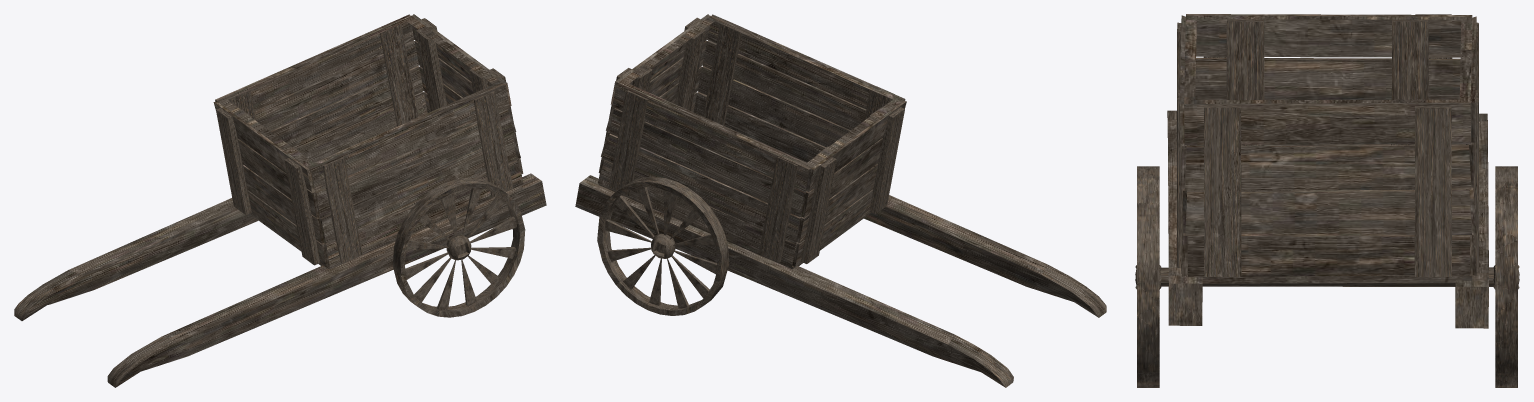
Rendered from cart_4.glb.
The picture shows the model from 3 angles, left to right: view 1: azimuth 30°, elevation 25°; view 2: azimuth 150°, elevation 25°; view 3: azimuth 270°, elevation 25°; orthographic projection. The views are drawn at different scales.
Visible parts, largest first — view 1: Wagon; view 2: Wagon; view 3: Wagon.
Part boxes in pixels (bbox=[...]): Wagon: bbox=[14, 14, 546, 387]; Wagon: bbox=[575, 14, 1106, 387]; Wagon: bbox=[1135, 14, 1519, 387].
Size of the model in its own units: 1.9 by 0.8781 by 0.9575.
Materials: 1 (1 with a texture image).
